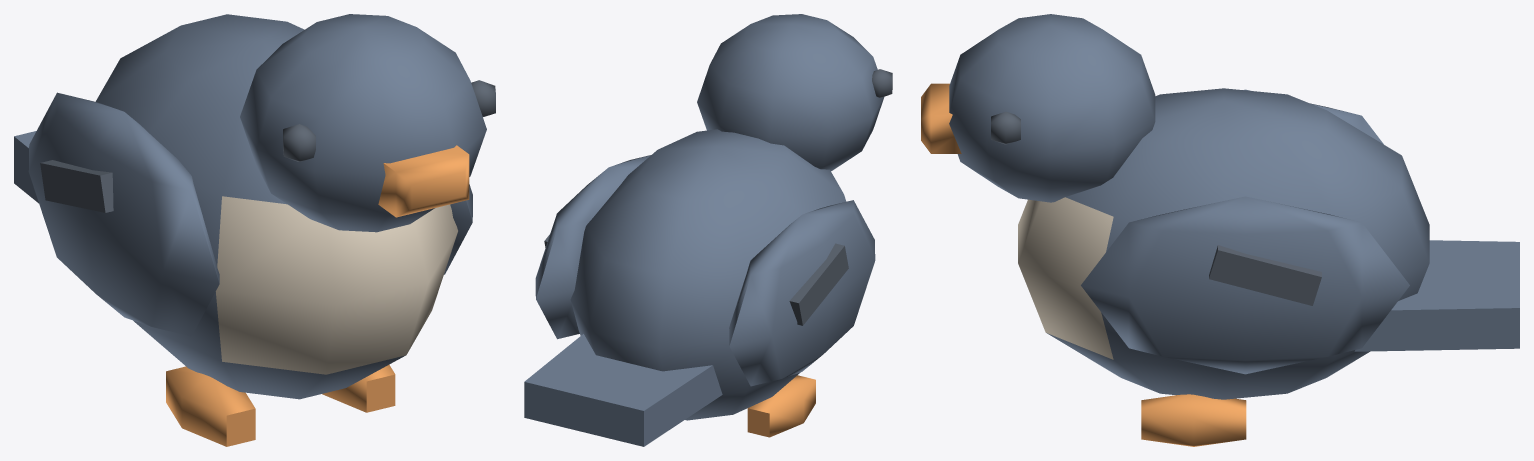
Rendered from hub_pigeon.glb.
3 views of the same model, side by side, from view 1: azimuth 30°, elevation 25°; view 2: azimuth 150°, elevation 25°; view 3: azimuth 270°, elevation 25° (orthographic). The views are drawn at different scales.
Parts seen in each view (by area): view 1: hub_pigeon_structure; view 2: hub_pigeon_structure; view 3: hub_pigeon_structure.
Boxes of the visible parts, left/top/right/bottom form: hub_pigeon_structure: left=14, top=14, right=495, bottom=446; hub_pigeon_structure: left=524, top=14, right=892, bottom=446; hub_pigeon_structure: left=921, top=14, right=1519, bottom=446.
Bounding box in the file's own units: 0.2 × 0.26 × 0.36.
